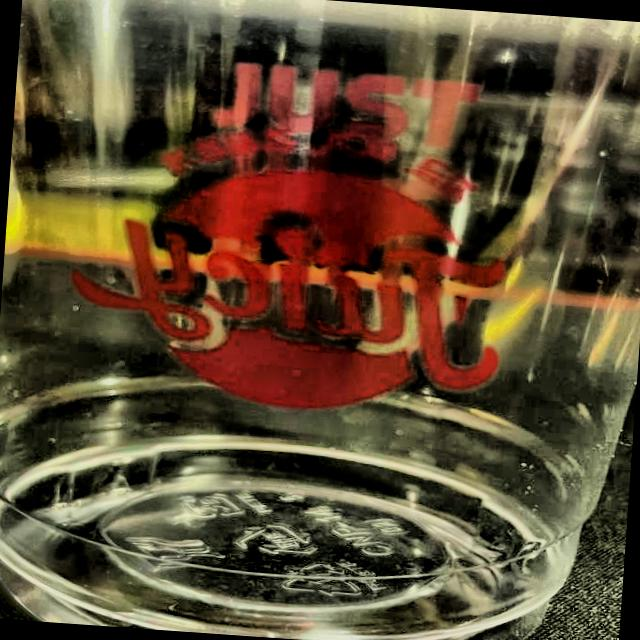plastic cup: (52, 42, 537, 442)
